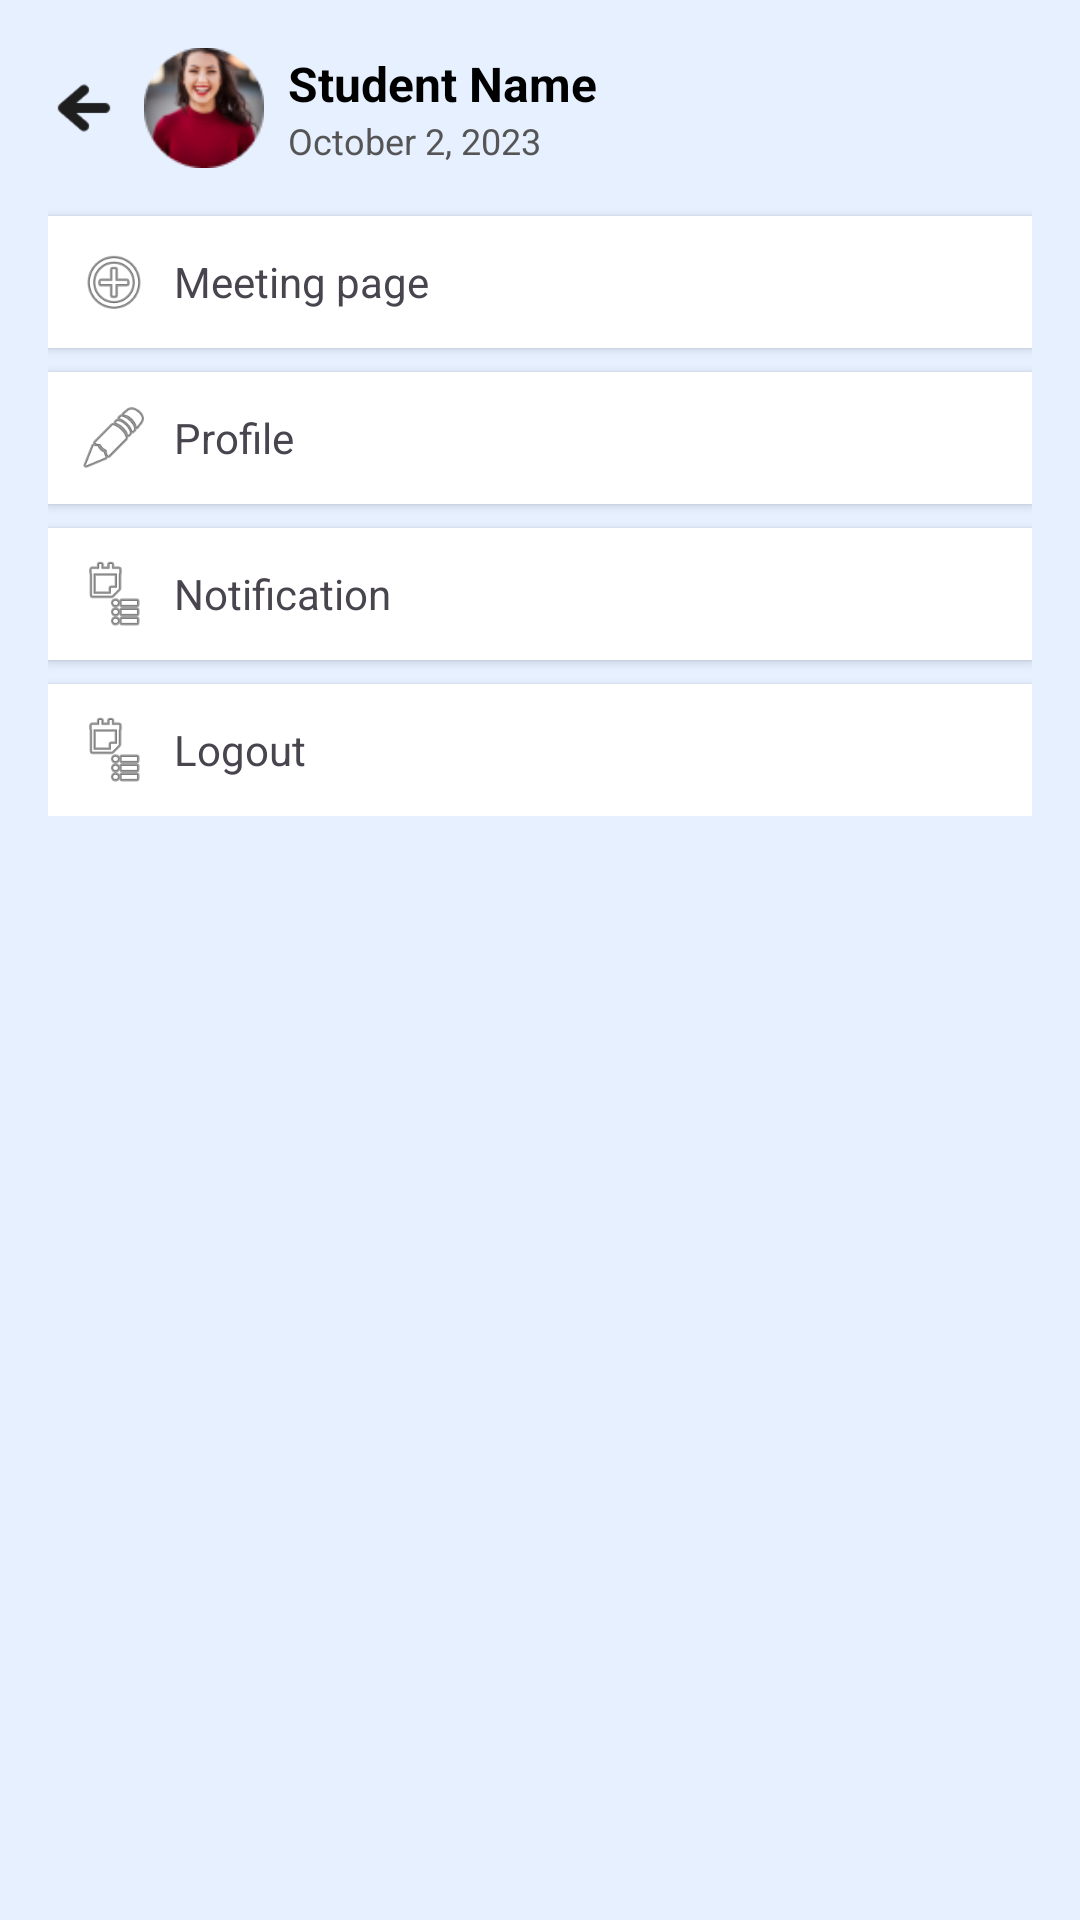

Icons on this 1080w x 1920h Android screen, each with the point to tap as (x=x, y=y):
add: (x=114, y=282)
agenda: (x=114, y=594), (x=114, y=750)
Back: (x=84, y=108)
edit: (x=113, y=437)
Profile Photo: (x=204, y=108)
